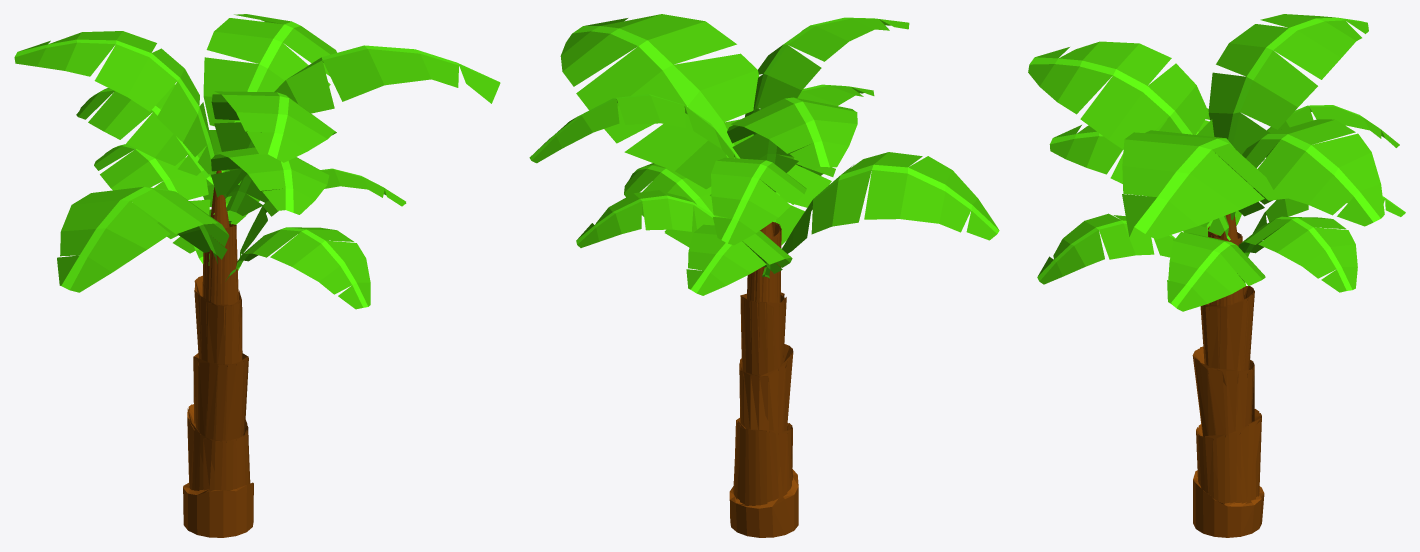
File: bananatreefix.fbx
3 renders of one model, left to right at view 1: azimuth 30°, elevation 25°; view 2: azimuth 150°, elevation 25°; view 3: azimuth 270°, elevation 25°, orthographic. The views are drawn at different scales.
Parts seen in each view (by area): view 1: Cylinder, Sphere.007, Sphere.001, Sphere.008, Sphere.011, Sphere.005, Sphere.010, Sphere.002, Sphere.003, Sphere.006, Sphere.016, Sphere.022 (+8 smaller); view 2: Sphere.011, Cylinder, Sphere.007, Sphere.001, Sphere.012, Sphere.003, Sphere.005, Sphere.006, Sphere.008, Sphere.009, Sphere.016, Sphere.004 (+9 smaller); view 3: Cylinder, Sphere.001, Sphere.005, Sphere.011, Sphere.008, Sphere.009, Sphere.004, Sphere.010, Sphere.022, Sphere.018, Sphere.012, Sphere.015 (+6 smaller).
Part boxes in pixels (box(x1,y1,x2,y2)): Cylinder: box(183, 170, 253, 537); Sphere.007: box(57, 186, 229, 292); Sphere.001: box(14, 31, 216, 174); Sphere.008: box(203, 14, 336, 204); Sphere.011: box(225, 45, 500, 211); Sphere.005: box(211, 91, 336, 214); Sphere.010: box(226, 227, 370, 309); Sphere.002: box(211, 147, 329, 223); Sphere.003: box(76, 84, 213, 184); Sphere.006: box(94, 144, 210, 263); Sphere.016: box(57, 187, 227, 291); Sphere.022: box(15, 31, 216, 173); Sphere.011: box(560, 14, 759, 195); Cylinder: box(729, 222, 798, 537); Sphere.007: box(782, 152, 999, 253); Sphere.001: box(727, 97, 857, 172); Sphere.012: box(562, 14, 757, 188); Sphere.003: box(711, 157, 806, 245); Sphere.005: box(745, 17, 909, 135); Sphere.006: box(686, 224, 792, 295); Sphere.008: box(530, 94, 736, 163); Sphere.009: box(576, 190, 714, 247); Sphere.016: box(782, 153, 998, 252); Sphere.004: box(624, 163, 730, 246); Cylinder: box(1192, 213, 1264, 537); Sphere.001: box(1208, 14, 1368, 154); Sphere.005: box(1028, 41, 1214, 149); Sphere.011: box(1122, 130, 1293, 239); Sphere.008: box(1232, 119, 1384, 226); Sphere.009: box(1238, 216, 1357, 292); Sphere.004: box(1167, 232, 1265, 310); Sphere.010: box(1037, 213, 1175, 284); Sphere.022: box(1209, 15, 1368, 151); Sphere.018: box(1029, 42, 1213, 148); Sphere.012: box(1122, 131, 1285, 236); Sphere.015: box(1235, 119, 1383, 225).
Bounding box in the file's own units: 1821 × 1878 × 1393.
